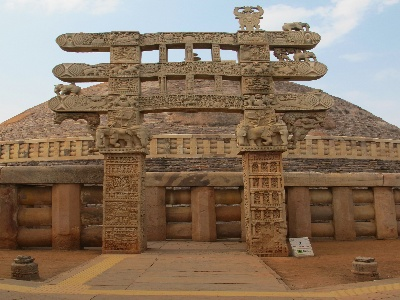torana: (39, 10, 342, 233)
